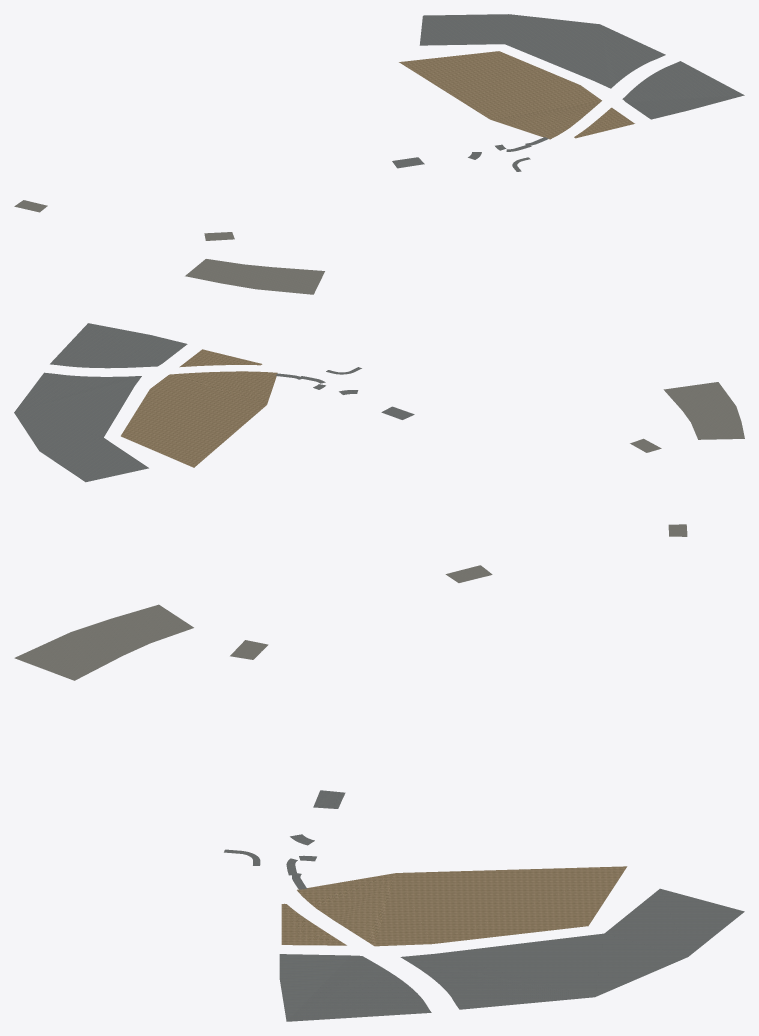
Rendered from old_4ripe.FBX.
The picture shows the model from 3 angles, top to bottom: view 1: azimuth 30°, elevation 25°; view 2: azimuth 150°, elevation 25°; view 3: azimuth 270°, elevation 25°; orthographic projection. The views are drawn at different scales.
Parts seen in each view (by area): view 1: ta33, ta29_00, road_side_tile_00, road_side_tile_20; view 2: ta33, ta29_00, road_side_tile_00, road_side_tile_20; view 3: ta33, ta29_00, road_side_tile_00, road_side_tile_20.
Part boxes in pixels (box(x1,y1,x2,y2)): ta33: box(419, 14, 744, 119); ta29_00: box(399, 51, 634, 139); road_side_tile_00: box(14, 200, 324, 294); road_side_tile_20: box(392, 137, 548, 171); ta33: box(14, 323, 187, 482); ta29_00: box(121, 349, 277, 467); road_side_tile_00: box(630, 382, 744, 536); road_side_tile_20: box(275, 367, 414, 419); ta33: box(279, 888, 744, 1021); ta29_00: box(281, 866, 627, 946); road_side_tile_00: box(14, 565, 492, 680); road_side_tile_20: box(224, 790, 345, 889).
Bounding box in the file's own units: 903 × 2.55 × 611.
